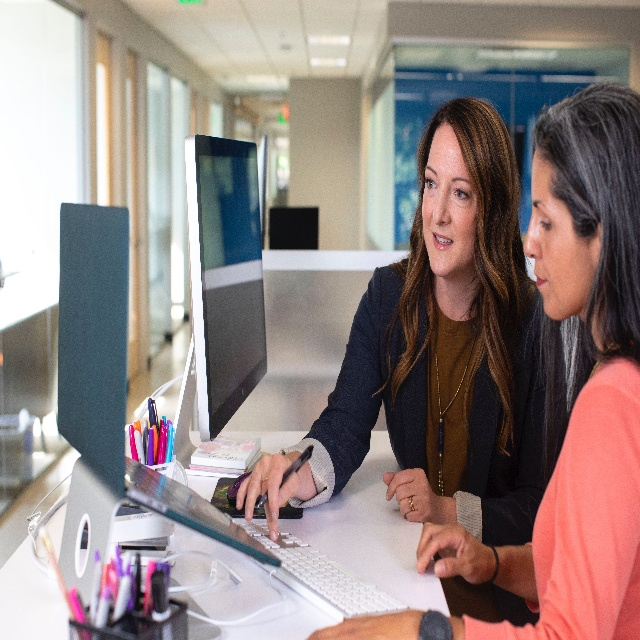Sin_guantes: (235, 449, 301, 542), (416, 512, 496, 586), (306, 609, 465, 640), (381, 467, 440, 523)
